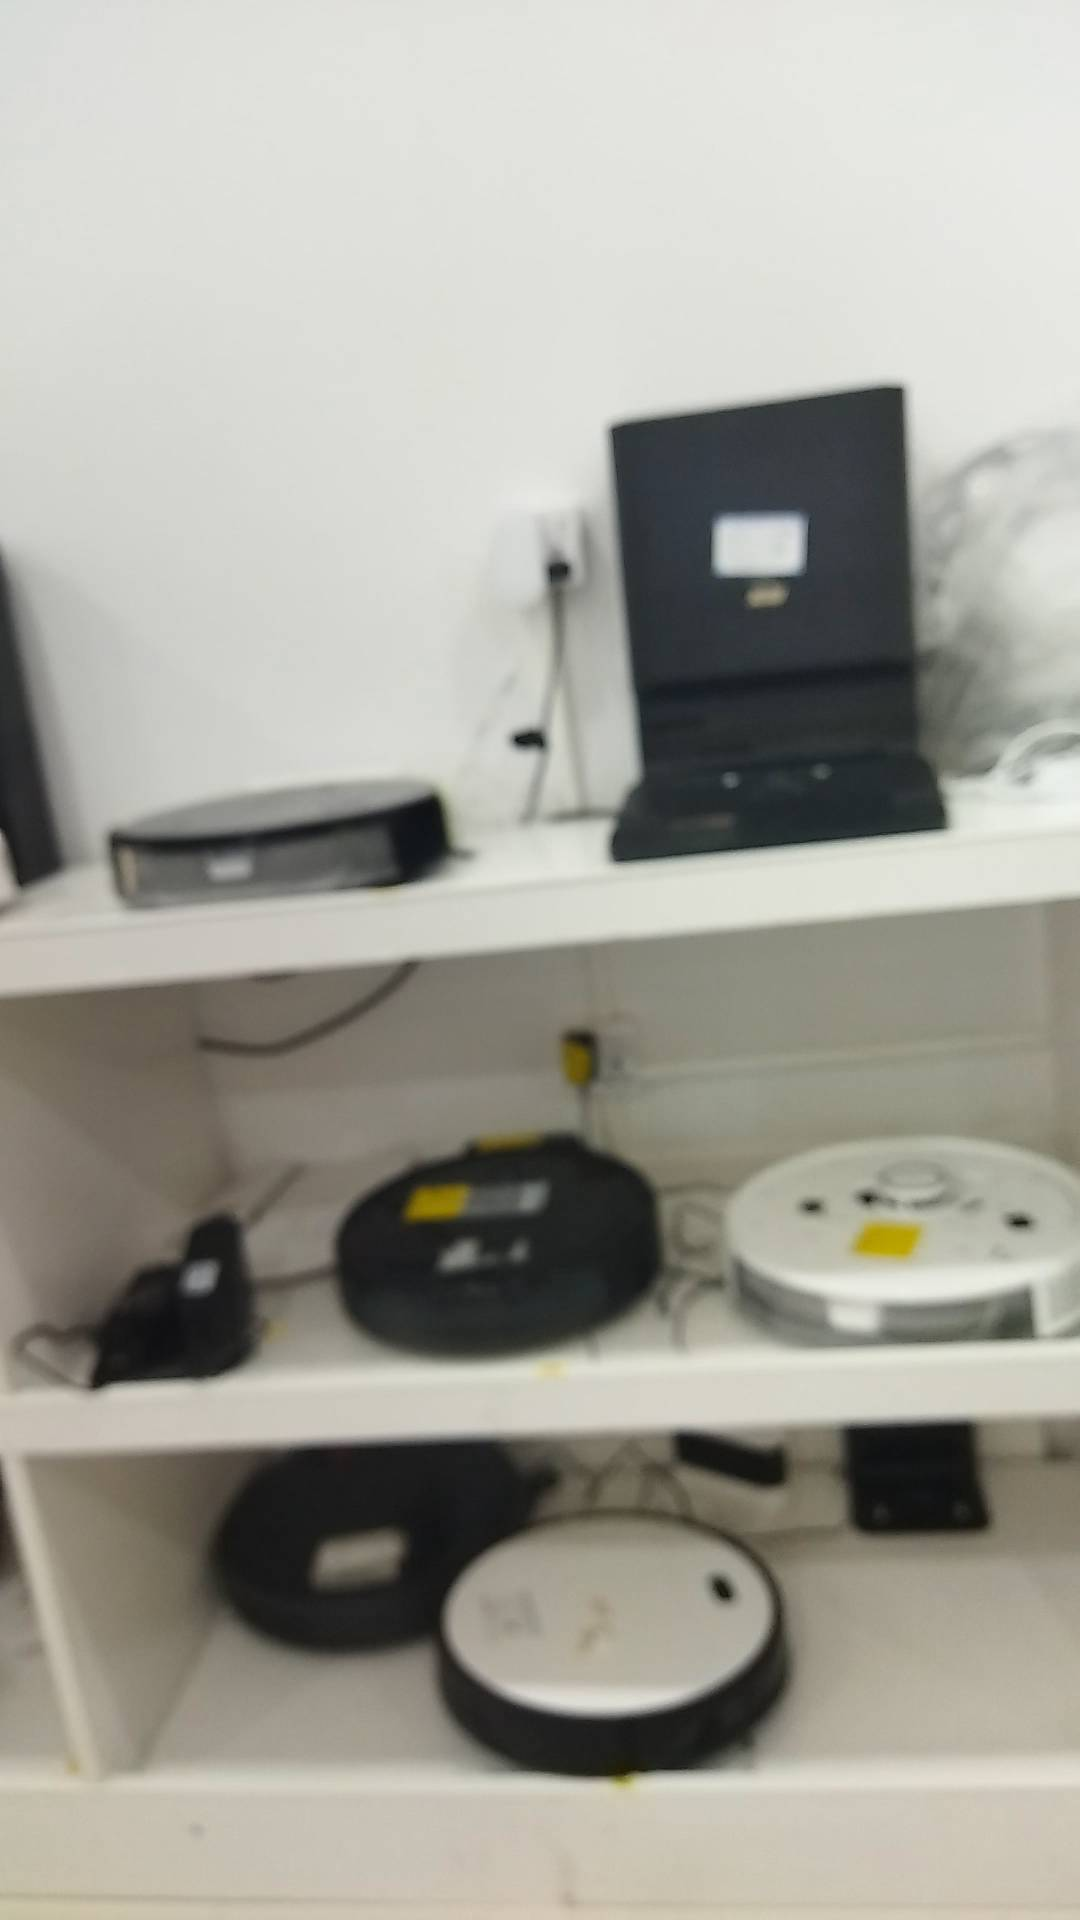dust collecting barrel: (611, 386, 952, 868)
recharge seat: (94, 1213, 255, 1389), (632, 1433, 795, 1549), (845, 1427, 998, 1540)
